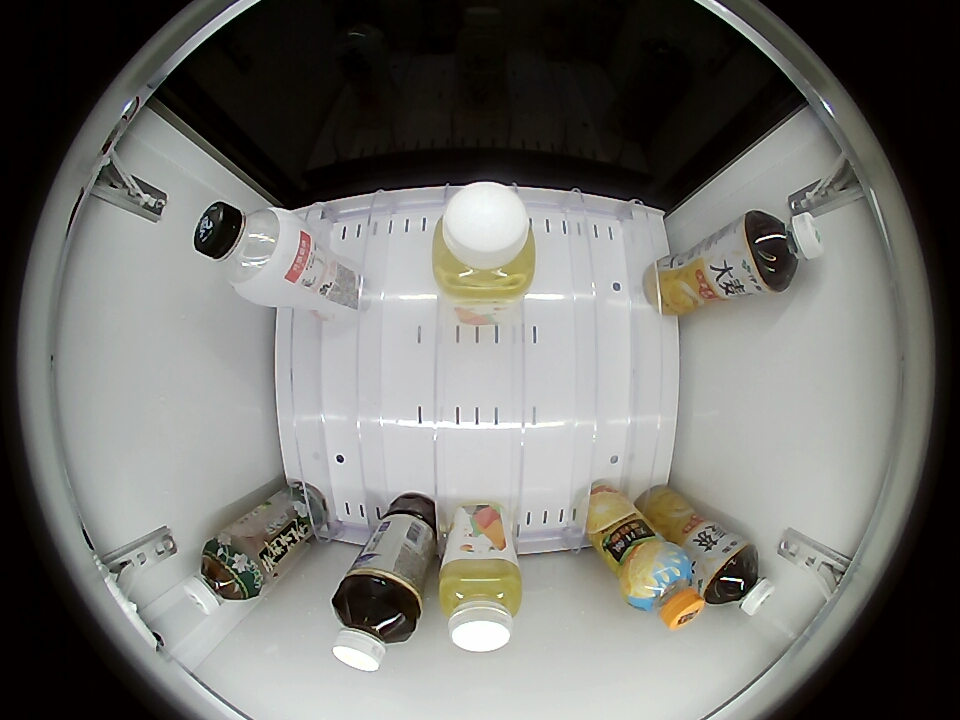chapai2: (431, 182, 536, 305), (440, 556, 522, 652)
damaicha: (743, 210, 825, 292), (702, 541, 775, 616)
guolicheng: (622, 545, 704, 629)
moliqingcha: (184, 539, 257, 615)
wulongcha: (332, 584, 418, 673)
yuanqishui: (193, 202, 309, 303)
